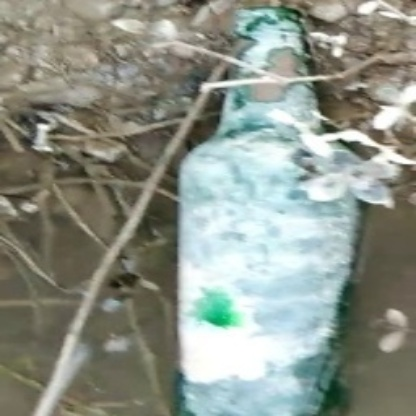bottle: (172, 5, 373, 416)
